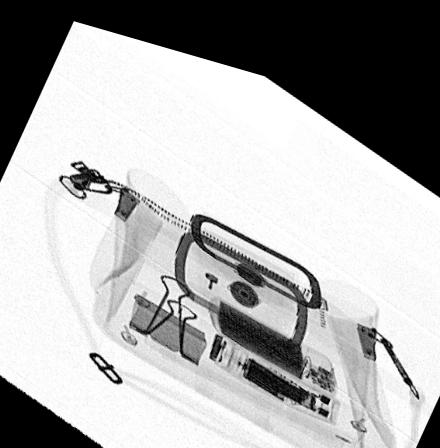Powerbank: (206, 284, 339, 381)
